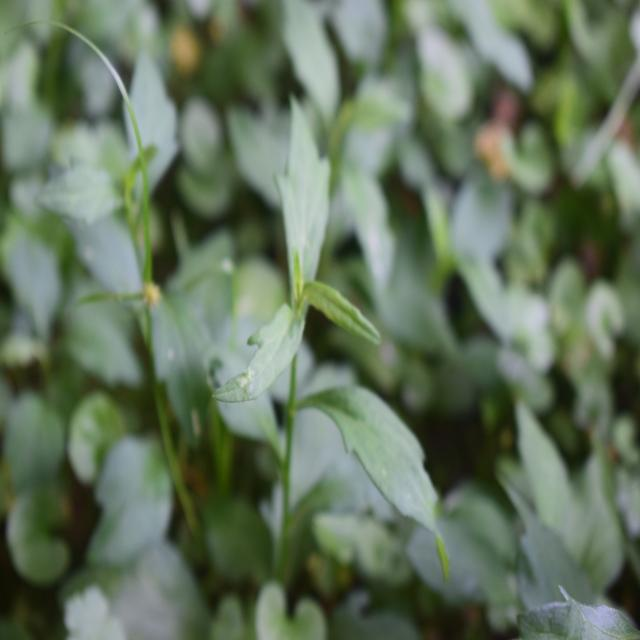Indian aster: (220, 114, 441, 538)
